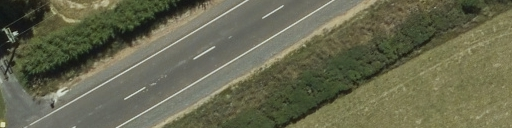DT: (2, 24, 24, 52)
